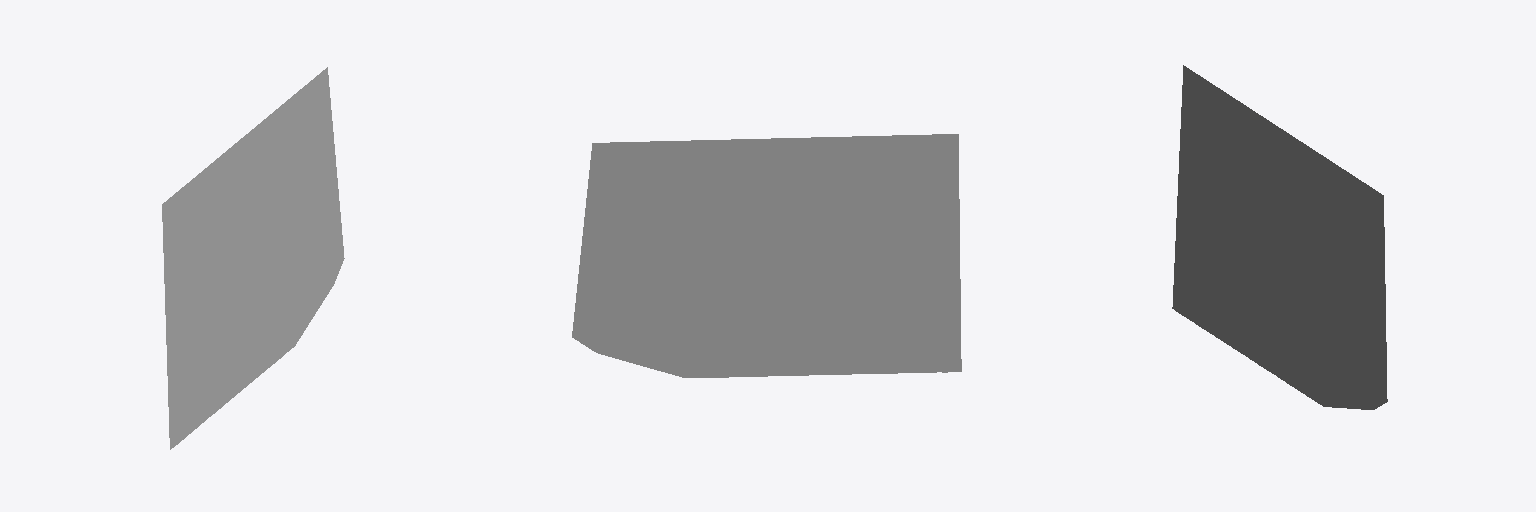
The model's file is wall10.obj.
The picture shows the model from 3 angles: view 1: azimuth 30°, elevation 25°; view 2: azimuth 150°, elevation 25°; view 3: azimuth 270°, elevation 25°; orthographic projection.
Bounding box in the file's own units: 6.23 × 5.08 × 4.08.